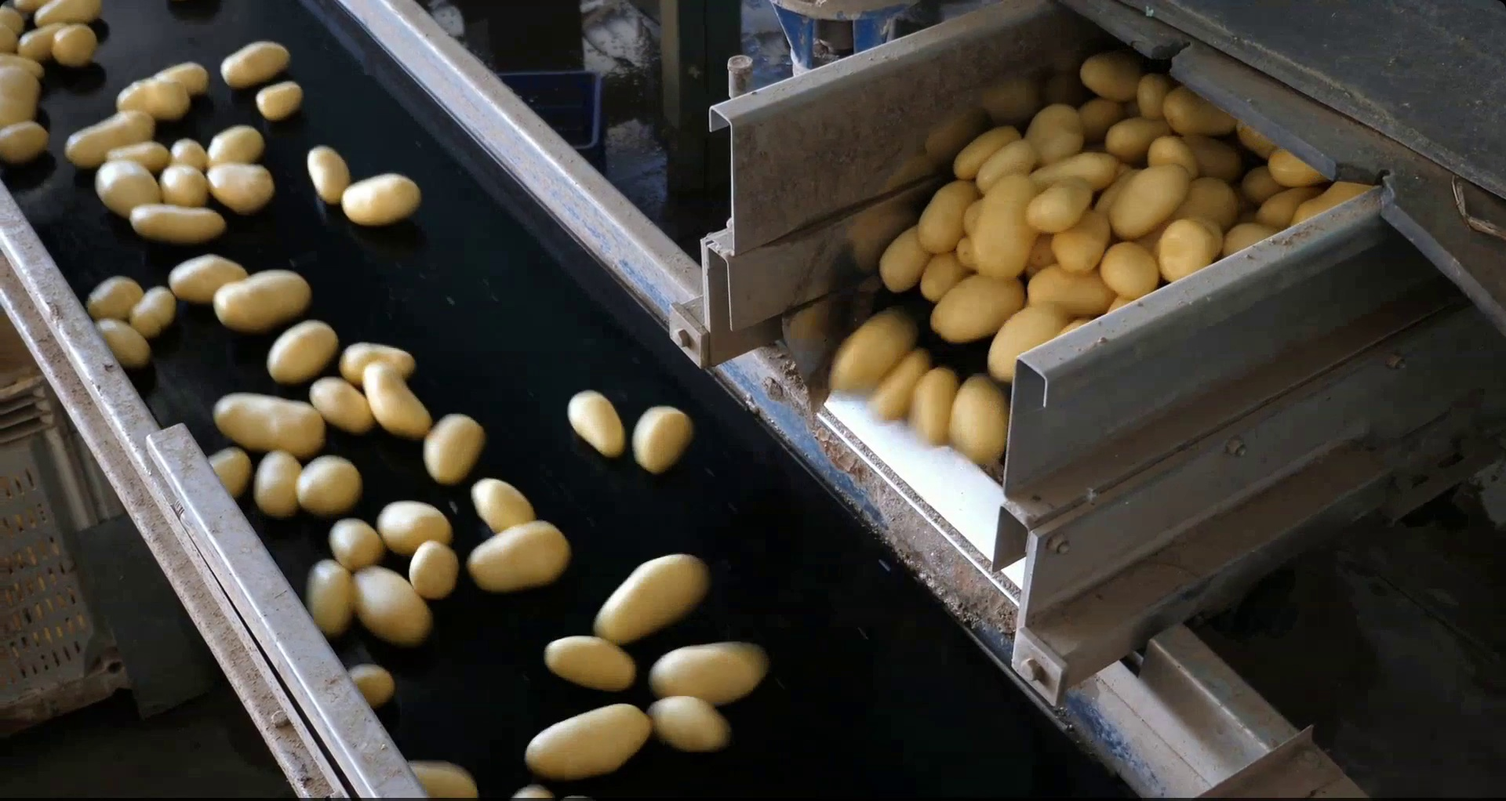potato: (589, 547, 717, 647), (519, 698, 657, 788), (820, 306, 927, 401), (642, 634, 774, 705), (462, 517, 576, 597), (924, 267, 1033, 348), (982, 297, 1079, 388), (207, 386, 327, 458), (970, 169, 1041, 285), (206, 265, 320, 335), (347, 564, 436, 651), (1107, 158, 1198, 241), (944, 367, 1012, 474), (540, 630, 642, 697), (863, 343, 937, 435), (360, 357, 437, 442), (417, 406, 493, 491), (61, 107, 158, 172), (642, 691, 736, 758), (913, 173, 984, 258), (262, 314, 343, 388), (337, 169, 429, 231), (628, 400, 699, 480), (904, 361, 963, 457), (163, 248, 255, 309), (1285, 173, 1384, 228), (1024, 256, 1116, 315), (373, 497, 460, 558), (562, 383, 628, 463), (873, 220, 940, 297), (288, 451, 366, 517), (297, 556, 356, 643), (466, 473, 542, 539), (1020, 175, 1100, 237), (246, 444, 310, 521), (1051, 204, 1115, 280), (122, 200, 230, 245), (948, 121, 1026, 183), (90, 156, 164, 221), (308, 370, 377, 438), (111, 72, 197, 125), (336, 335, 418, 389), (216, 35, 294, 91), (1100, 234, 1167, 299), (1157, 214, 1217, 286), (201, 161, 278, 217), (1019, 100, 1084, 165), (1020, 147, 1118, 190), (1160, 82, 1235, 138), (1180, 169, 1242, 236), (973, 136, 1038, 198), (405, 538, 463, 605), (402, 754, 484, 801), (302, 140, 354, 212), (323, 512, 384, 571), (83, 266, 145, 324), (123, 281, 180, 343), (1075, 45, 1140, 99), (1103, 111, 1174, 160), (202, 120, 267, 172), (93, 314, 151, 370), (1264, 145, 1331, 190), (915, 245, 966, 303), (1144, 132, 1202, 183), (2, 63, 44, 133), (1071, 89, 1125, 143), (150, 53, 213, 99), (205, 442, 250, 505), (1, 116, 53, 170), (344, 658, 399, 708), (1218, 219, 1286, 259), (155, 161, 214, 207), (1250, 180, 1311, 224), (46, 20, 99, 69), (253, 77, 307, 125), (1130, 65, 1174, 121), (100, 138, 169, 172), (13, 20, 70, 60), (33, 1, 111, 30), (1227, 114, 1278, 158), (1051, 308, 1104, 347), (1189, 208, 1227, 256), (1235, 154, 1275, 198), (165, 135, 208, 172), (1021, 230, 1054, 276), (2, 48, 46, 79), (953, 230, 982, 277), (962, 195, 990, 235), (504, 780, 555, 801), (1102, 287, 1133, 317), (1, 19, 21, 60), (2, 2, 24, 35), (1118, 155, 1137, 183), (11, 1, 45, 12), (561, 793, 595, 801)
